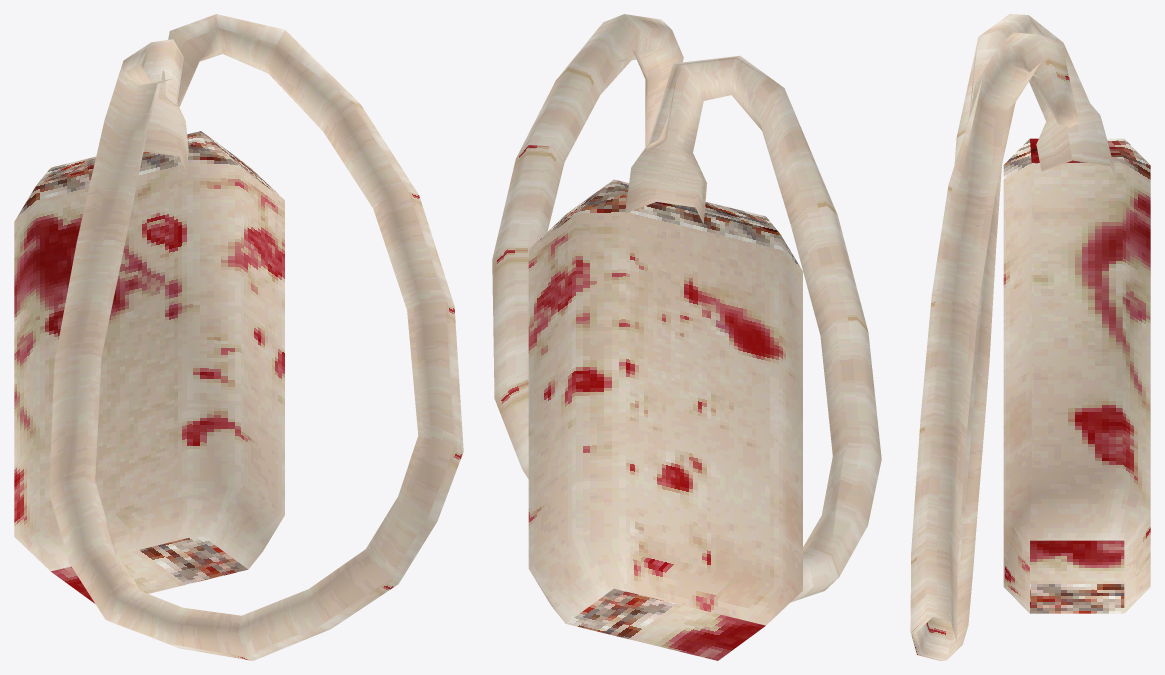
File: ps2_save-icons_suffering.glb
3 views of the same model, side by side, from view 1: azimuth 30°, elevation 25°; view 2: azimuth 150°, elevation 25°; view 3: azimuth 270°, elevation 25° (orthographic).
Parts seen in each view (by area): view 1: FolderIcon.ico; view 2: FolderIcon.ico; view 3: FolderIcon.ico.
Part boxes in pixels (x1,y1,x2,y2): FolderIcon.ico: [14, 14, 463, 660]; FolderIcon.ico: [492, 14, 881, 660]; FolderIcon.ico: [910, 14, 1150, 660].
Bounding box in the file's own units: 2.48 × 3.74 × 1.34.
1 material, 1 textured.
